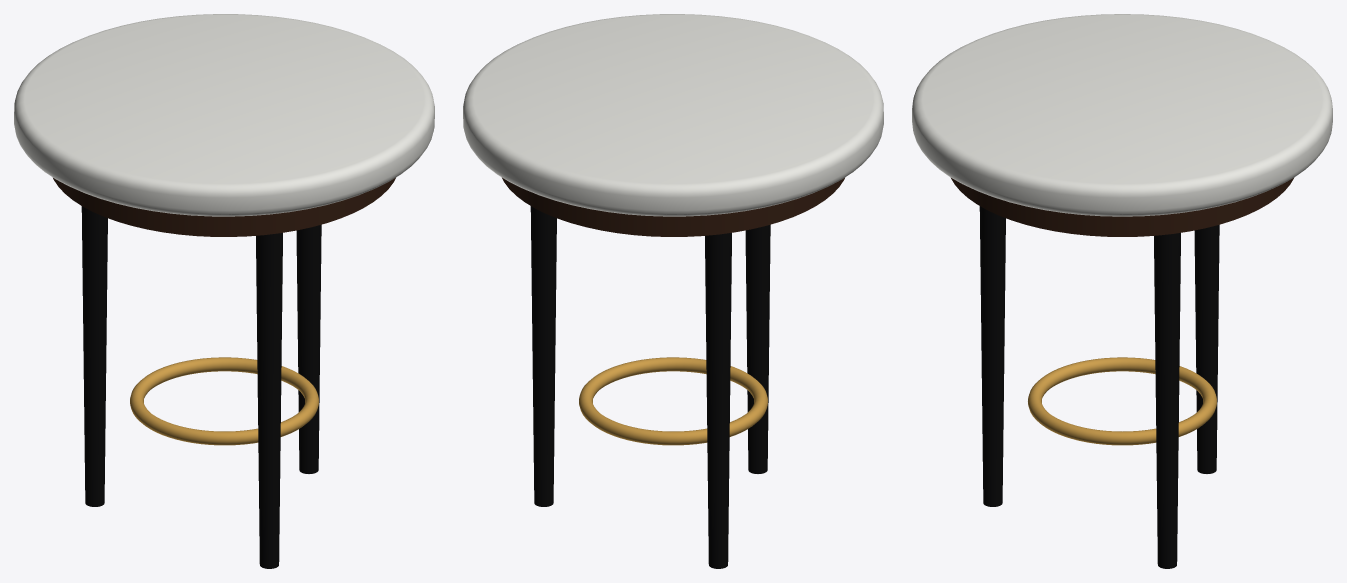
Rendered from modern_side_table.obj.
3 renders of one model, left to right at view 1: azimuth 30°, elevation 25°; view 2: azimuth 150°, elevation 25°; view 3: azimuth 270°, elevation 25°, orthographic.
Parts seen in each view (by area): view 1: top, leg.002, leg.001, apron, ring, leg; view 2: top, leg.001, leg, apron, ring, leg.002; view 3: top, leg, leg.002, apron, ring, leg.001.
Boxes of the visible parts, x1,y1,x2,y2 form: top: (14,14,434,216); leg.002: (256,233,282,568); leg.001: (81,206,107,506); apron: (53,177,395,236); ring: (130,357,318,445); leg: (296,224,321,473); top: (463,14,883,216); leg.001: (705,233,731,568); leg: (530,206,556,506); apron: (502,177,844,236); ring: (579,357,767,445); leg.002: (745,224,770,473); top: (912,14,1332,216); leg: (1154,233,1180,568); leg.002: (979,206,1005,506); apron: (951,178,1293,236); ring: (1028,357,1216,445); leg.001: (1194,225,1219,473).
Size of the model in its own units: 0.48 by 0.52 by 0.48.
